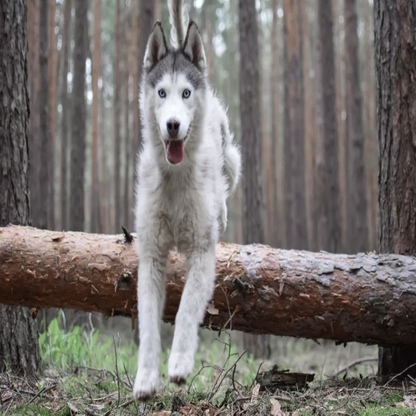husky: (116, 17, 247, 405)
